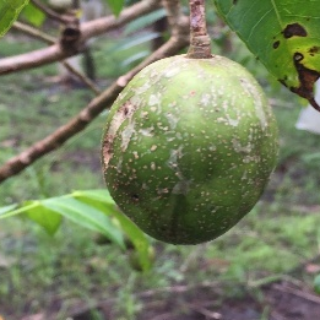coc: (101, 53, 279, 246)
